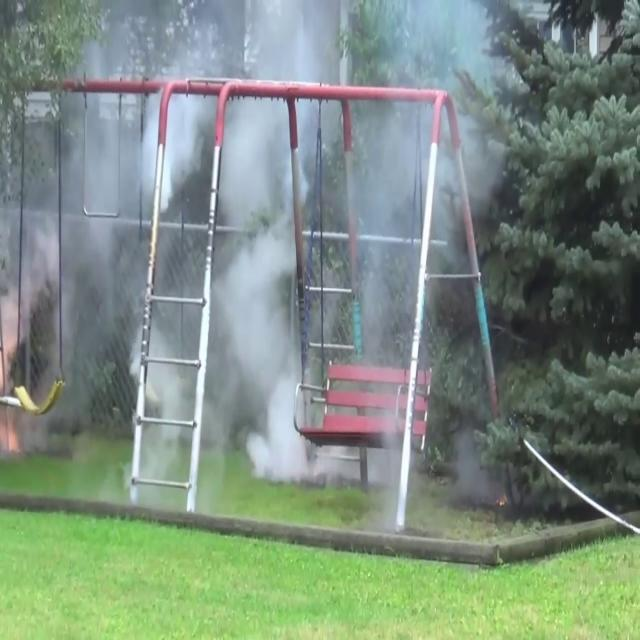Smoke: (0, 2, 526, 449)
